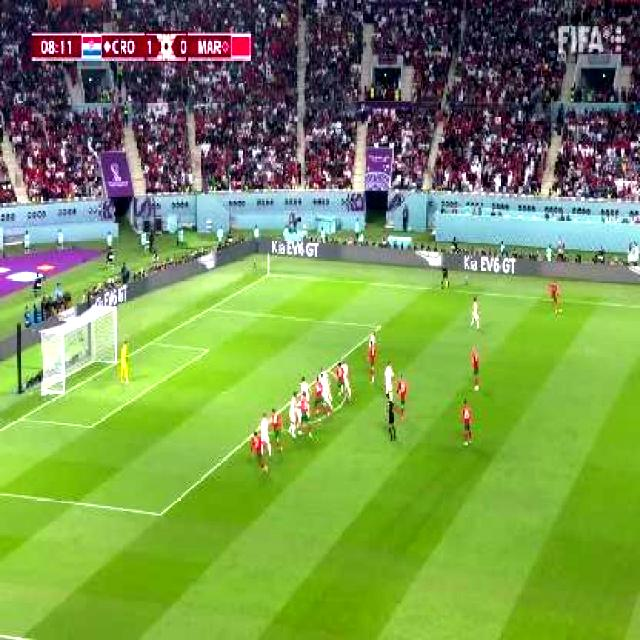bigarea_bottom_inner: (149, 500, 169, 526)
bigarea_top_inner: (370, 318, 384, 334)
bigarea_top_outter: (202, 300, 216, 315)
corner: (262, 268, 276, 280)
smallarea_bottom_inner: (82, 414, 98, 437)
smallarea_bottom_outter: (12, 408, 28, 426)
smallarea_top_inner: (200, 340, 214, 357)
smallarea_top_outter: (144, 334, 158, 349)
